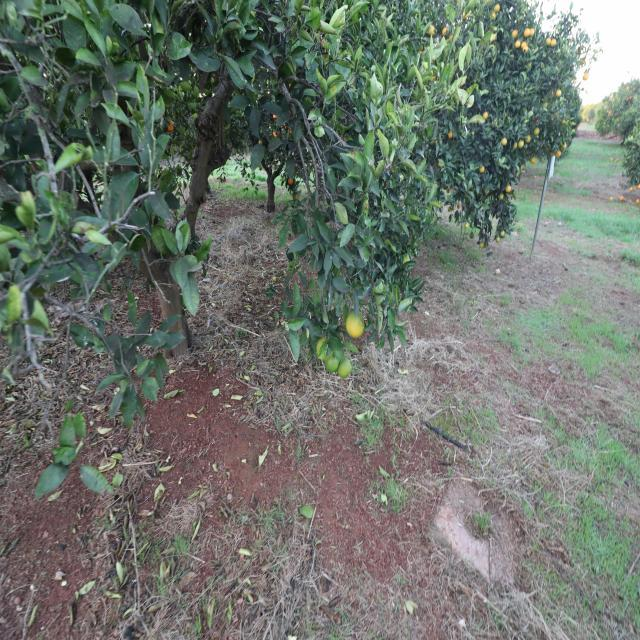Jeruk Belum Matang: (348, 310, 366, 340), (316, 336, 333, 361), (324, 353, 339, 373), (338, 357, 352, 378), (501, 138, 507, 146), (518, 140, 524, 148), (498, 192, 504, 200), (494, 4, 500, 12), (525, 135, 531, 143), (512, 142, 517, 150), (534, 128, 540, 134)
Jeruk Sudah Matang: (512, 29, 518, 39), (524, 28, 530, 38), (505, 184, 511, 193), (429, 26, 435, 35), (550, 38, 556, 47), (442, 28, 448, 36), (515, 40, 521, 48), (556, 89, 562, 97), (555, 150, 561, 158), (583, 72, 589, 80), (448, 131, 453, 140), (546, 38, 551, 46), (530, 28, 534, 37), (480, 165, 484, 173), (530, 158, 536, 162)
